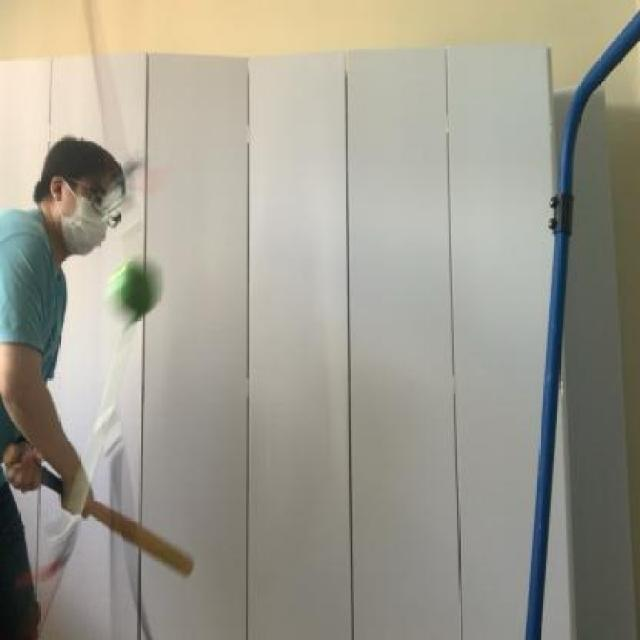baseball: (97, 252, 171, 326)
